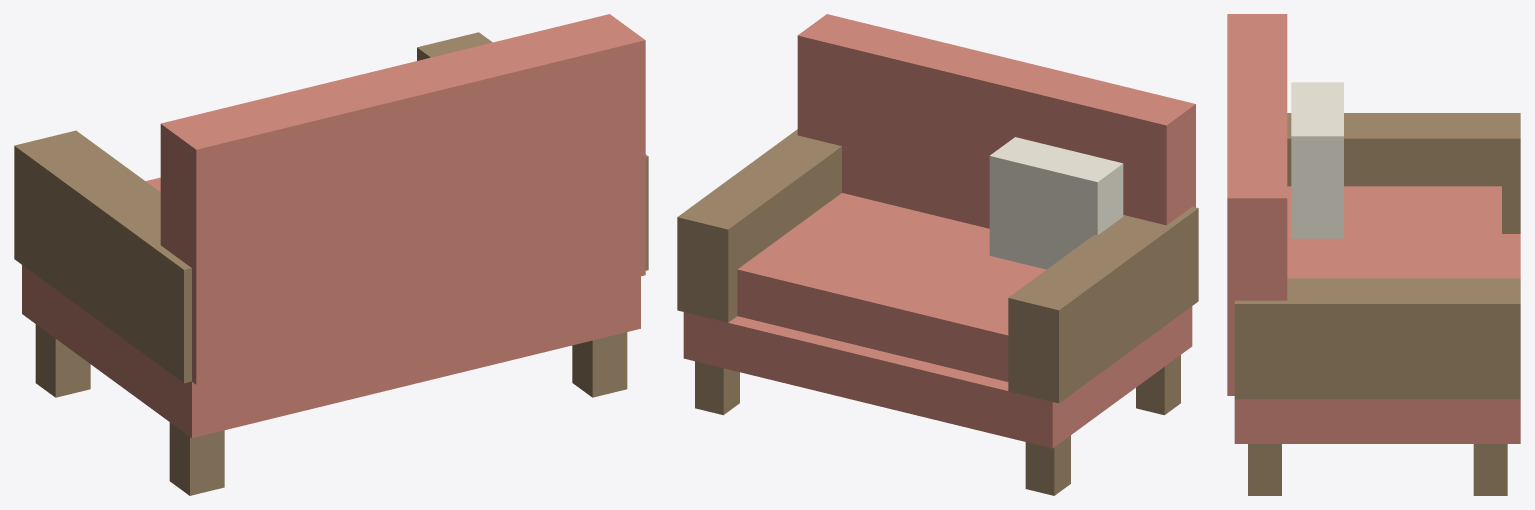
The model's file is 18-Casas_sillon.glb.
The picture shows the model from 3 angles, left to right: view 1: azimuth 30°, elevation 25°; view 2: azimuth 150°, elevation 25°; view 3: azimuth 270°, elevation 25°; orthographic projection. The views are drawn at different scales.
Visible parts, largest first — view 1: SM_Sillon_Respaldo, SM_Sillon_Base, SM_Sillon_Brazo_I, SM_Sillon_Pata_PI, SM_Sillon_Pata_CI, SM_Sillon_Pata_PD, SM_Sillon_Brazo_D; view 2: SM_Sillon_Respaldo, SM_Sillon_Asiento, SM_Sillon_Base, SM_Sillon_Brazo_I, SM_Sillon_Brazo_D, SM_Sillon_Cojin, SM_Sillon_Pata_PD, SM_Sillon_Pata_CD, SM_Sillon_Pata_PI; view 3: SM_Sillon_Brazo_D, SM_Sillon_Respaldo, SM_Sillon_Asiento, SM_Sillon_Brazo_I, SM_Sillon_Base, SM_Sillon_Cojin, SM_Sillon_Pata_CD, SM_Sillon_Pata_CI.
Part boxes in pixels (left/top/right/bottom): SM_Sillon_Respaldo: left=160, top=14, right=645, bottom=384; SM_Sillon_Base: left=22, top=265, right=640, bottom=437; SM_Sillon_Brazo_I: left=14, top=130, right=191, bottom=383; SM_Sillon_Pata_PI: left=169, top=422, right=224, bottom=495; SM_Sillon_Pata_CI: left=572, top=332, right=627, bottom=397; SM_Sillon_Pata_PD: left=35, top=324, right=90, bottom=397; SM_Sillon_Brazo_D: left=417, top=32, right=648, bottom=270; SM_Sillon_Respaldo: left=797, top=14, right=1195, bottom=228; SM_Sillon_Asiento: left=737, top=193, right=1046, bottom=381; SM_Sillon_Base: left=683, top=306, right=1192, bottom=448; SM_Sillon_Brazo_I: left=1008, top=206, right=1198, bottom=403; SM_Sillon_Brazo_D: left=677, top=129, right=841, bottom=322; SM_Sillon_Cojin: left=989, top=137, right=1123, bottom=269; SM_Sillon_Pata_PD: left=1025, top=435, right=1070, bottom=495; SM_Sillon_Pata_CD: left=695, top=361, right=739, bottom=415; SM_Sillon_Pata_PI: left=1136, top=355, right=1180, bottom=415; SM_Sillon_Brazo_D: left=1234, top=278, right=1520, bottom=399; SM_Sillon_Respaldo: left=1227, top=14, right=1287, bottom=395; SM_Sillon_Asiento: left=1287, top=186, right=1501, bottom=278; SM_Sillon_Brazo_I: left=1287, top=113, right=1520, bottom=233; SM_Sillon_Base: left=1234, top=234, right=1520, bottom=443; SM_Sillon_Cojin: left=1291, top=82, right=1343, bottom=238; SM_Sillon_Pata_CD: left=1473, top=444, right=1507, bottom=495; SM_Sillon_Pata_CI: left=1248, top=444, right=1281, bottom=495.
Size of the model in its own units: 1.2 by 0.88 by 0.78.
